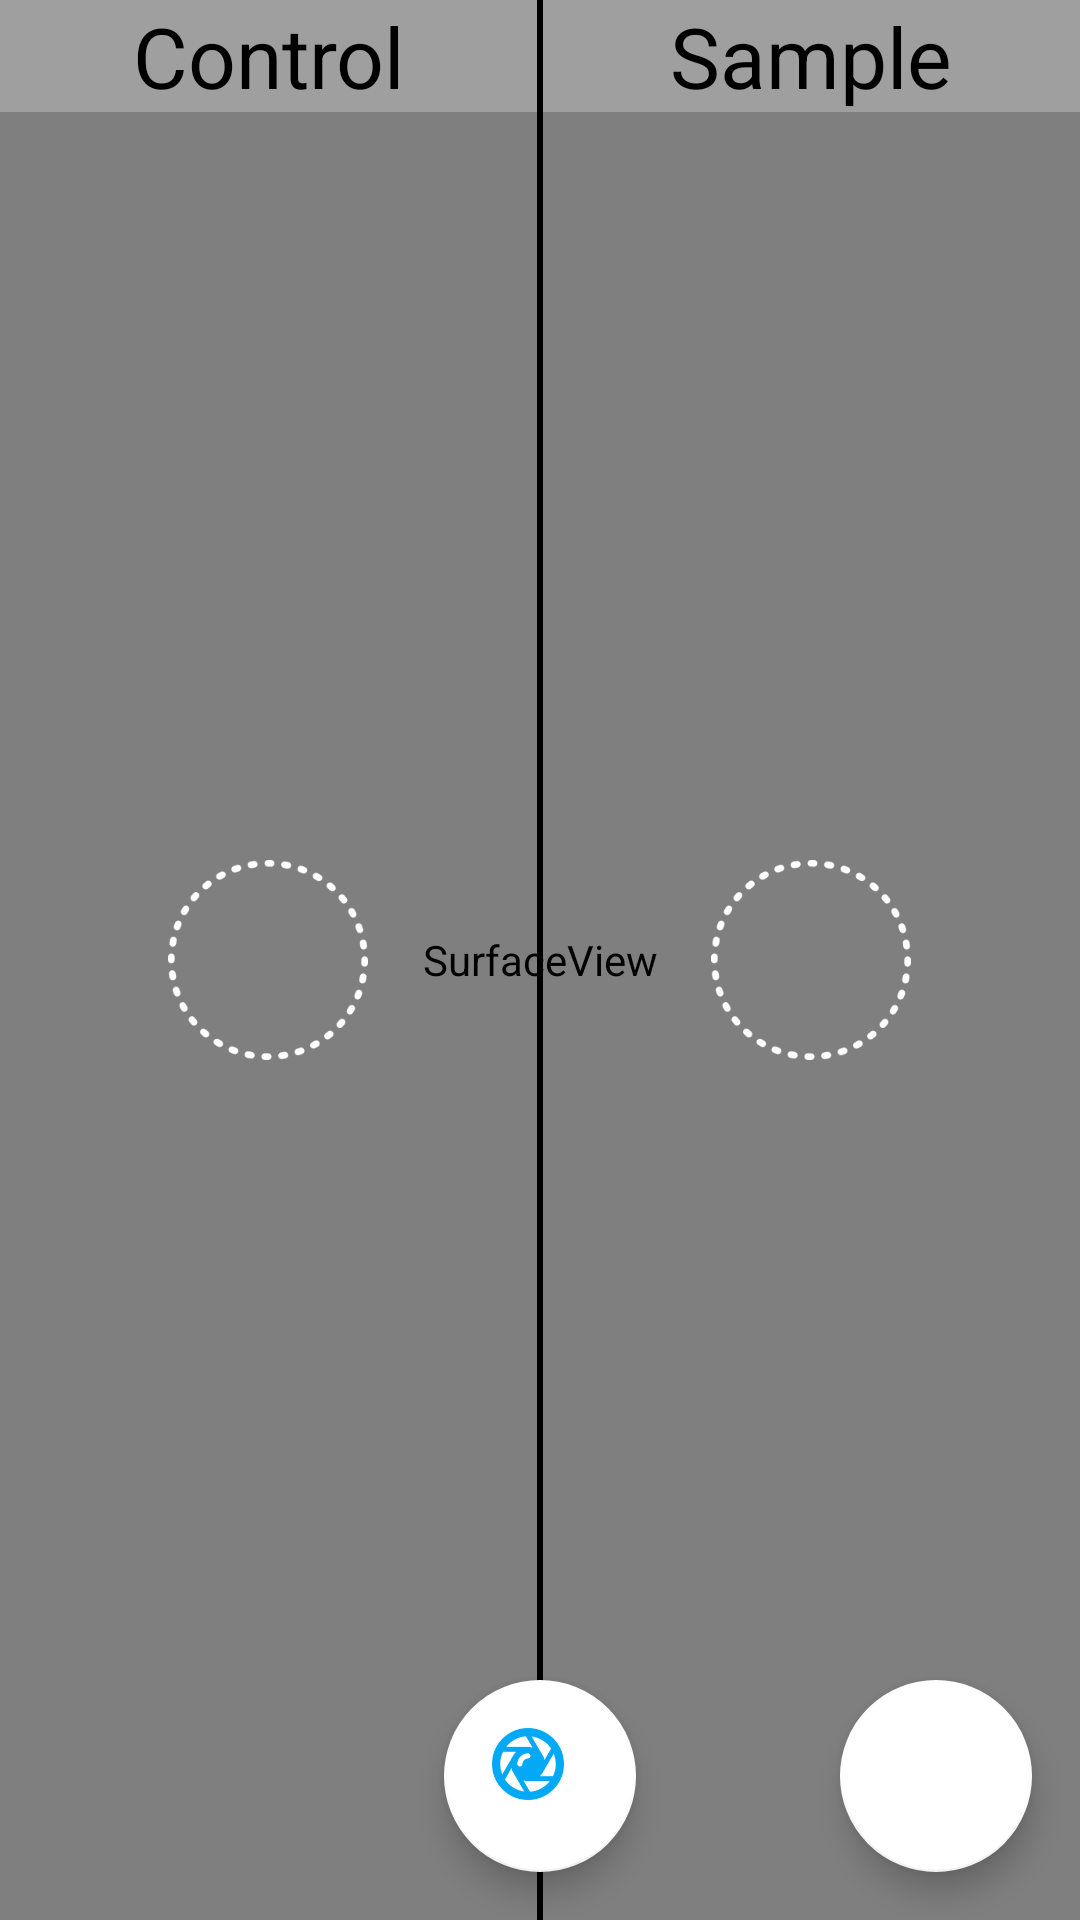

Icon click points for this 1080w x 1920h phone screenshot, format (x,y):
capture: (540,1776)
circle: (268,960), (811,960)
